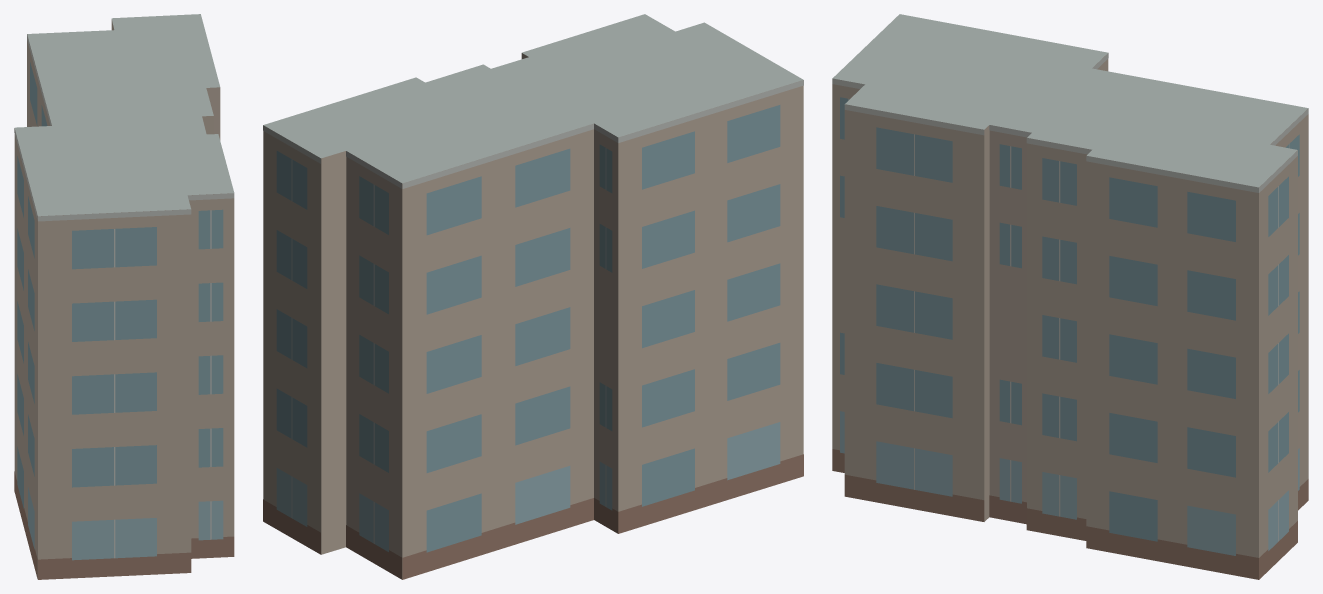
The model's file is survey-upis-32532439.glb.
3 renders of one model, left to right at view 1: azimuth 30°, elevation 25°; view 2: azimuth 150°, elevation 25°; view 3: azimuth 270°, elevation 25°, orthographic. The views are drawn at different scales.
Parts seen in each view (by area): view 1: survey-upis-32532439.tmp; view 2: survey-upis-32532439.tmp; view 3: survey-upis-32532439.tmp.
Boxes of the visible parts, bbox=[...] form: survey-upis-32532439.tmp: bbox=[14, 14, 234, 579]; survey-upis-32532439.tmp: bbox=[263, 14, 803, 579]; survey-upis-32532439.tmp: bbox=[832, 14, 1308, 579].
Size of the model in its own units: 16.12 by 16.99 by 18.69.
